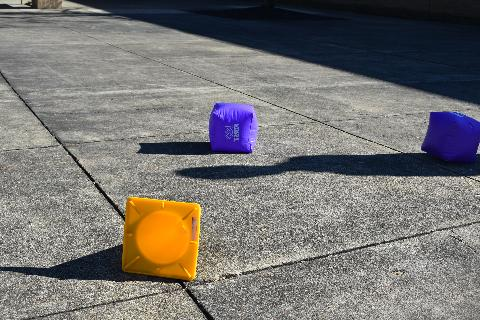cone: (121, 196, 201, 282)
cube: (420, 111, 480, 163), (208, 102, 258, 154)
